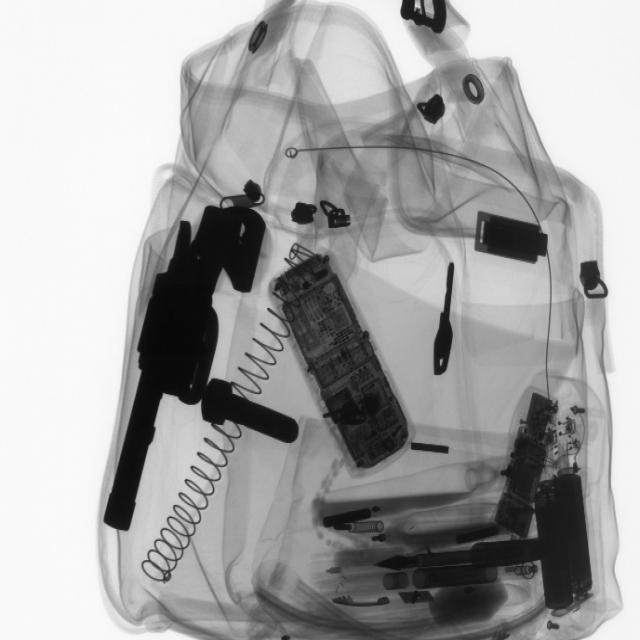GUN: (100, 190, 256, 550)
